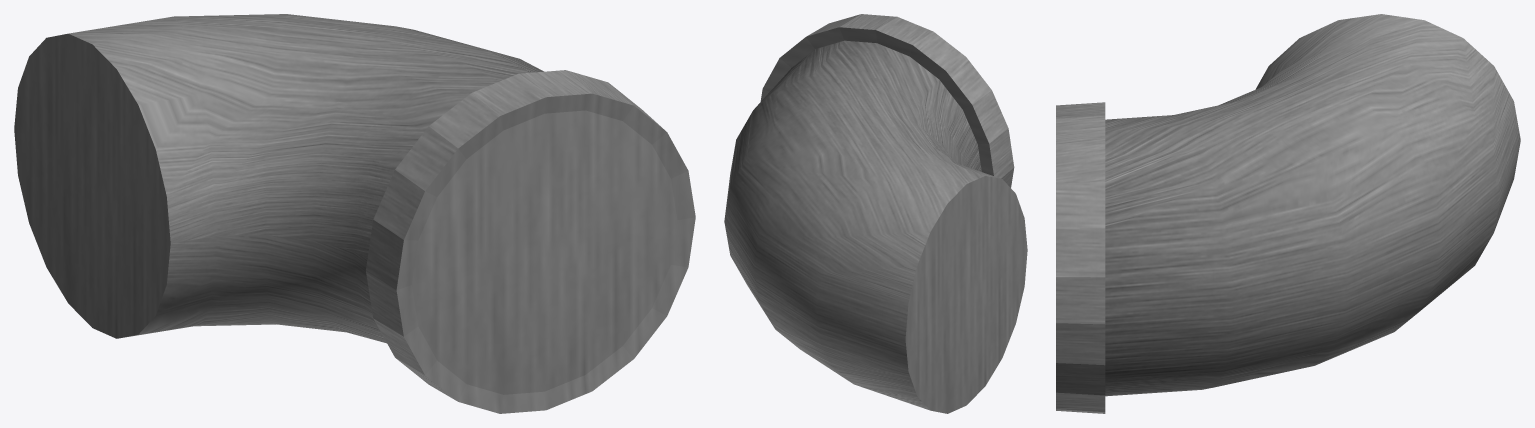
Rendered from pipe-turn-cap.fbx.
3 views of the same model, side by side, from view 1: azimuth 30°, elevation 25°; view 2: azimuth 150°, elevation 25°; view 3: azimuth 270°, elevation 25° (orthographic). The views are drawn at different scales.
Parts seen in each view (by area): view 1: pTorus5; view 2: pTorus5; view 3: pTorus5.
Part boxes in pixels (box(x1,y1,x2,y2)): pTorus5: box(14, 14, 695, 413); pTorus5: box(724, 14, 1027, 413); pTorus5: box(1056, 14, 1520, 413).
Bounding box in the file's own units: 145 × 105 × 155.
